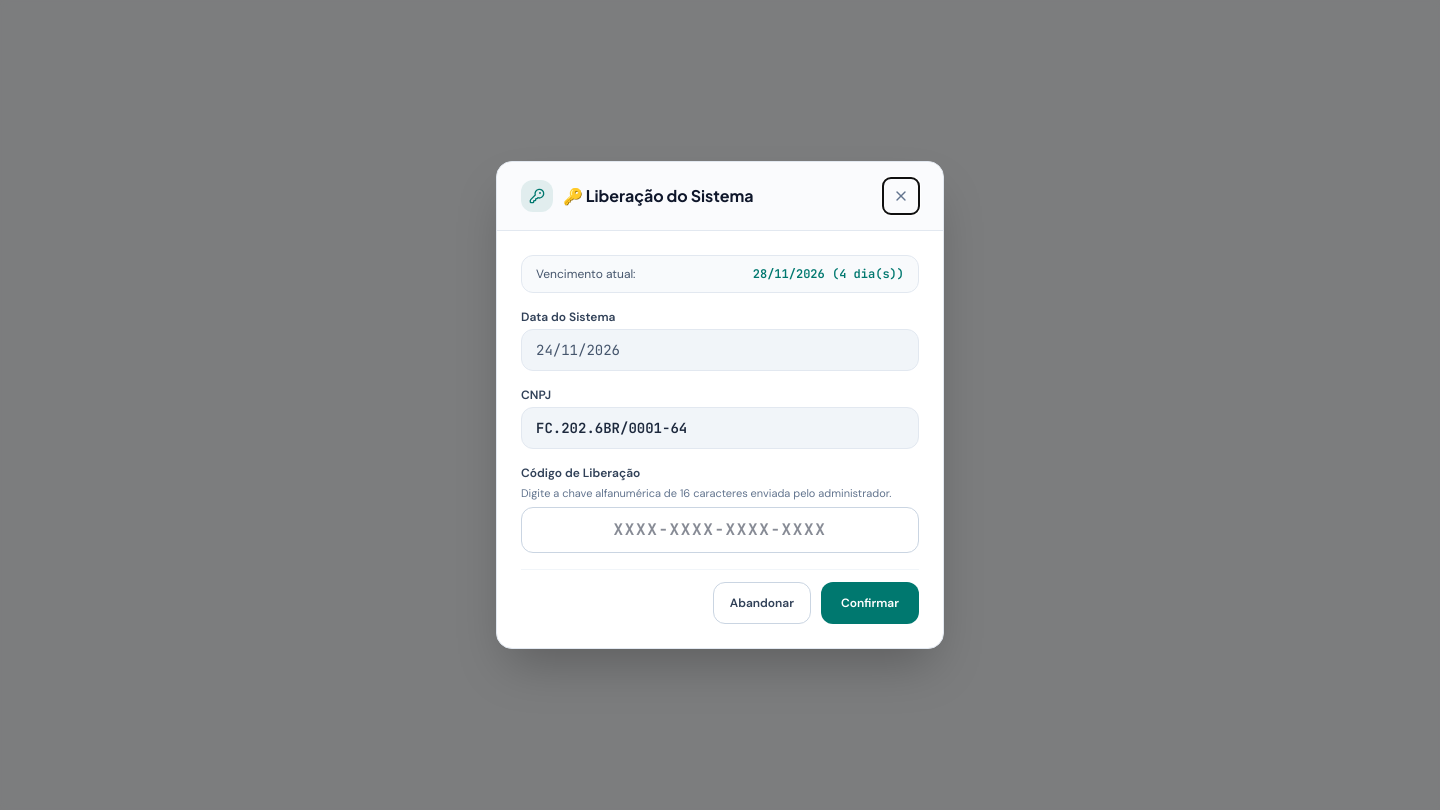
Test: SystemReleaseModal & Gestão Master de Licenças (Fase 10.2) › exibe mensagem de erro diretamente dentro do modal ao submeter código inválido
Type "0000111122223333" into the field with test id "release-code-input" at (720, 530), box [521,507,919,553]
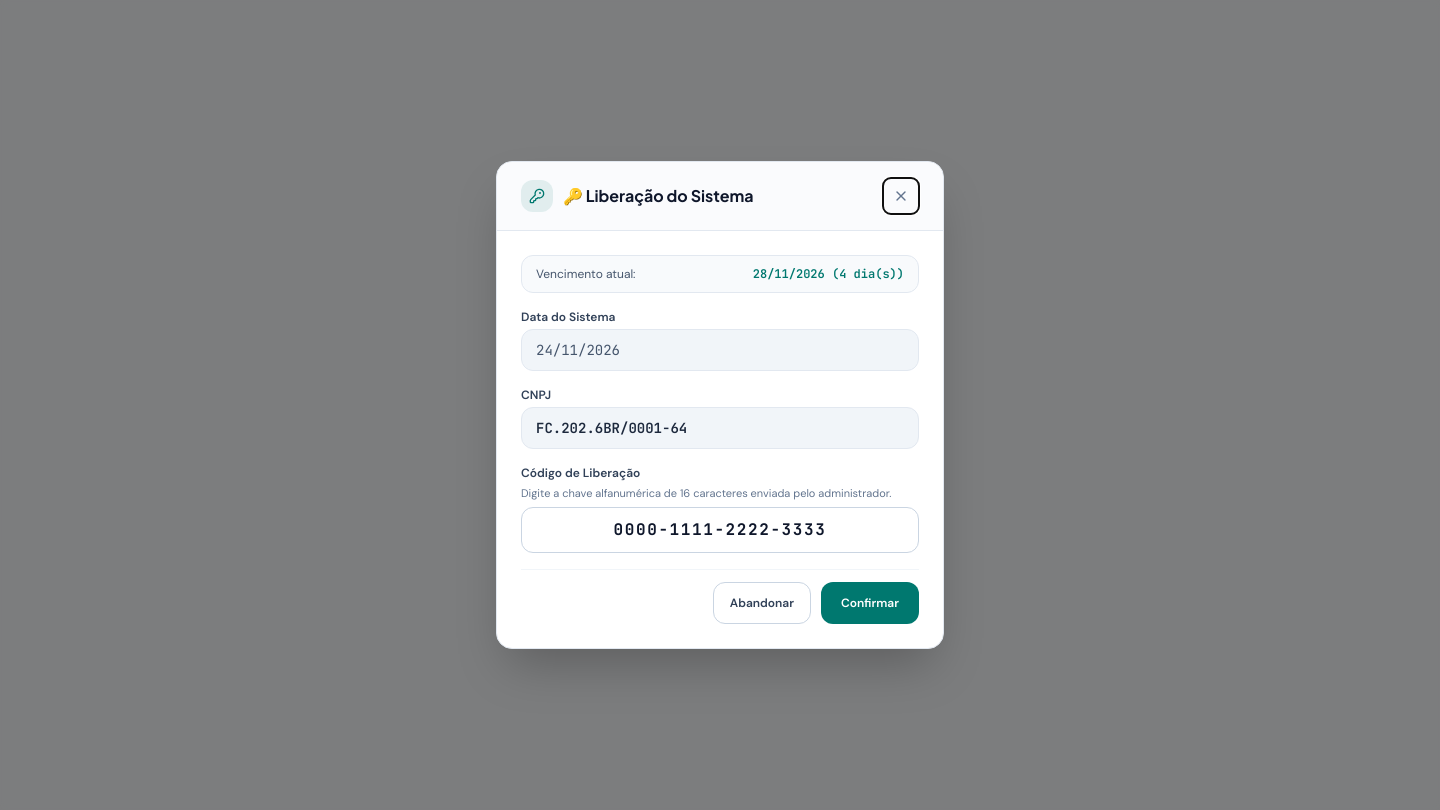
Click the button with test id "release-confirm-button" at (870, 603), box [821,582,919,624]
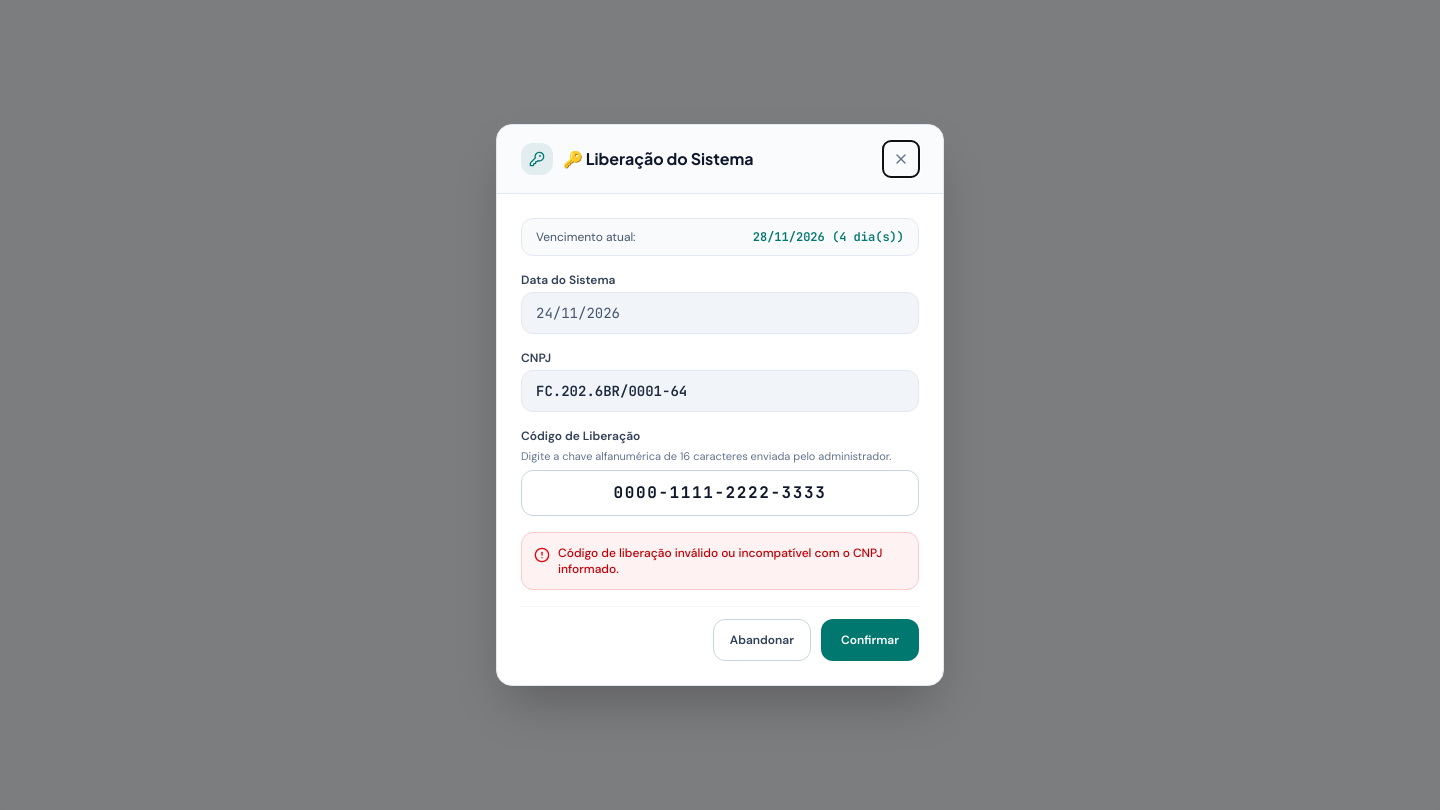
Expected: the message with test id "release-modal-error" reads "Código de liberação inválido ou incompatível com o CNPJ informado.", [558,545,882,577]
